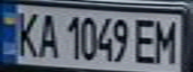0: (78, 14, 96, 61)
1: (60, 12, 81, 61)
4: (96, 14, 115, 62)
9: (109, 15, 133, 63)
A: (33, 9, 60, 60)
E: (130, 16, 160, 65)
K: (12, 8, 42, 59)
M: (151, 16, 184, 65)
